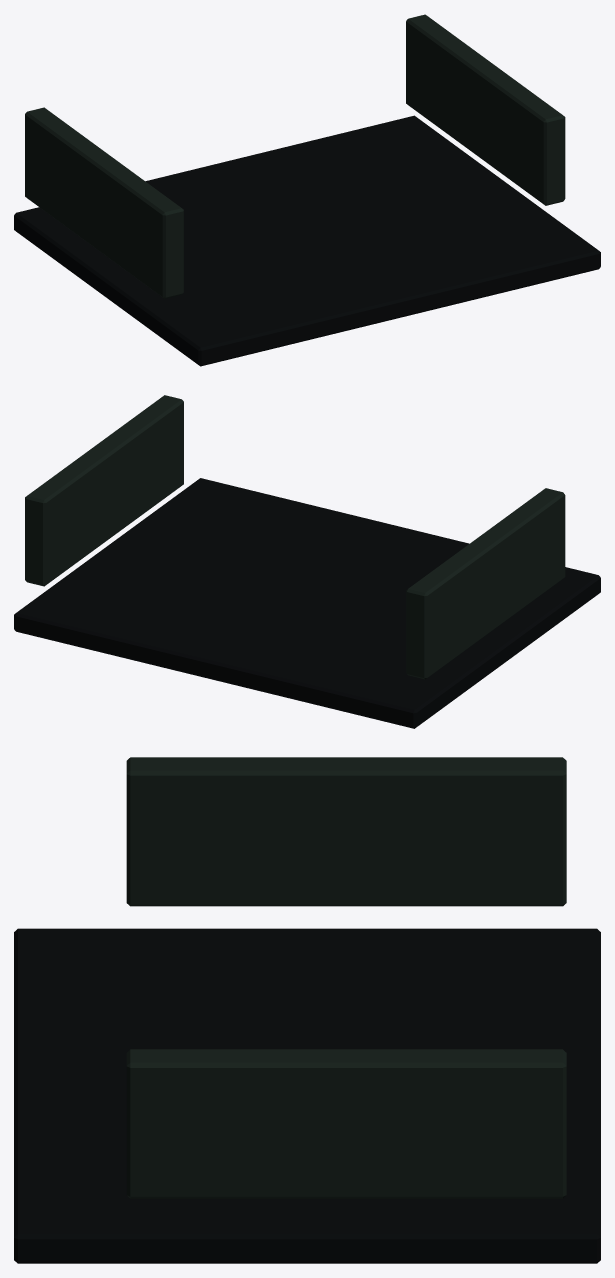
The model's file is Cockpit_Rotorcraft__Shell.obj.
3 views of the same model, one above another, from view 1: azimuth 30°, elevation 25°; view 2: azimuth 150°, elevation 25°; view 3: azimuth 270°, elevation 25° (orthographic). The views are drawn at different scales.
Visible parts, largest first — view 1: Floor, Side_console.001, Side_console; view 2: Floor, Side_console, Side_console.001; view 3: Floor, Side_console, Side_console.001.
Part boxes in pixels (box(x1,y1,x2,y2)): Floor: box(14, 115, 600, 366); Side_console.001: box(406, 14, 565, 205); Side_console: box(25, 107, 183, 298); Floor: box(14, 478, 600, 728); Side_console: box(406, 488, 565, 679); Side_console.001: box(25, 395, 183, 586); Floor: box(14, 928, 600, 1263); Side_console: box(126, 757, 566, 906); Side_console.001: box(126, 1049, 566, 1198).
Bounding box in the file's own units: 2.24 × 0.68 × 1.8.
